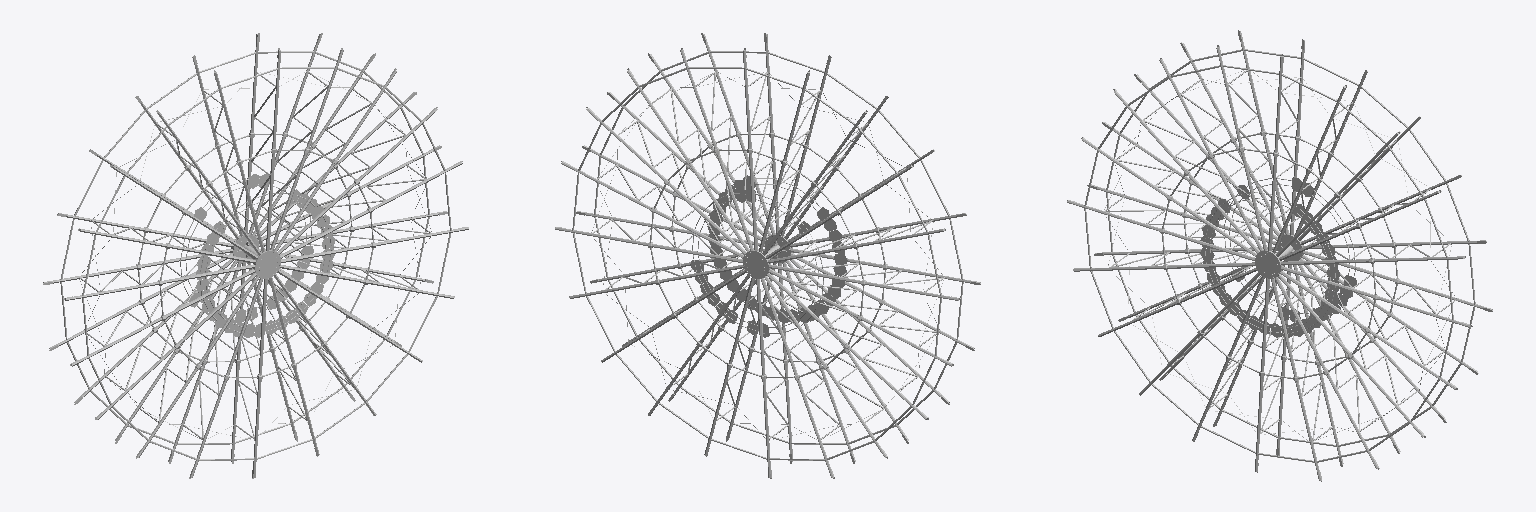
The model's file is rueda_fortuna_parte_una.obj.
The picture shows the model from 3 angles: view 1: azimuth 30°, elevation 25°; view 2: azimuth 150°, elevation 25°; view 3: azimuth 330°, elevation 25°; orthographic projection.
Visible parts, largest first — view 1: 2, 3, 4, 6, 1; view 2: 2, 3, 4, 6, 1; view 3: 2, 3, 4, 6, 1.
Part boxes in pixels (left/top/right/bottom): 2: left=43, top=33, right=468, bottom=478; 3: left=60, top=51, right=451, bottom=460; 4: left=79, top=71, right=431, bottom=440; 6: left=189, top=174, right=335, bottom=337; 1: left=231, top=234, right=280, bottom=278; 2: left=555, top=33, right=980, bottom=478; 3: left=572, top=51, right=963, bottom=460; 4: left=591, top=71, right=944, bottom=440; 6: left=691, top=175, right=847, bottom=337; 1: left=743, top=234, right=792, bottom=278; 2: left=1067, top=30, right=1492, bottom=481; 3: left=1084, top=49, right=1475, bottom=462; 4: left=1104, top=70, right=1456, bottom=441; 6: left=1200, top=178, right=1356, bottom=337; 1: left=1255, top=233, right=1303, bottom=278.
Bounding box in the file's own units: 22.32 × 22.32 × 2.36.